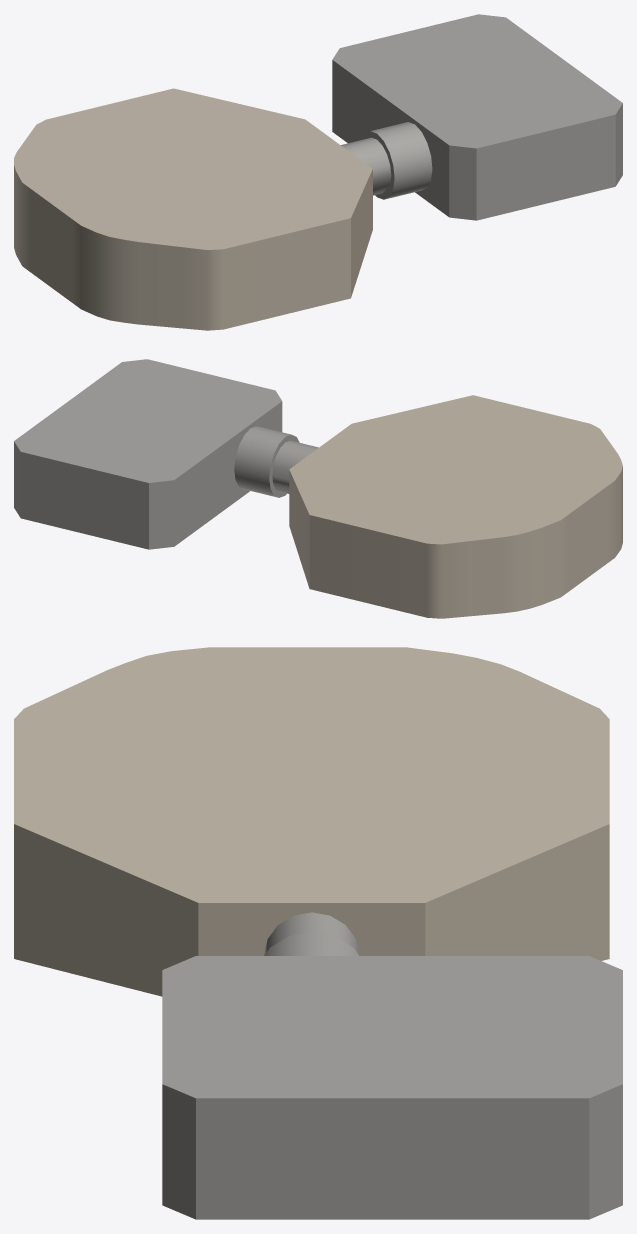
The model's file is tuning peg.fbx.
3 renders of one model, top to bottom at view 1: azimuth 30°, elevation 25°; view 2: azimuth 150°, elevation 25°; view 3: azimuth 270°, elevation 25°, orthographic. The views are drawn at different scales.
Parts seen in each view (by area): view 1: pCube5; view 2: pCube5; view 3: pCube5.
Boxes of the visible parts, box(x1,y1,x2,y2) form: pCube5: box(14, 14, 622, 330); pCube5: box(14, 359, 622, 618); pCube5: box(14, 647, 622, 1219).
Bounding box in the file's own units: 443 × 65.94 × 259.
